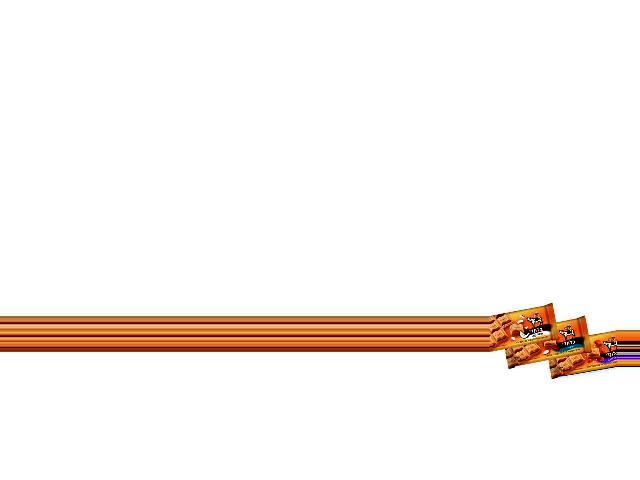chocolate: (542, 329, 618, 374)
